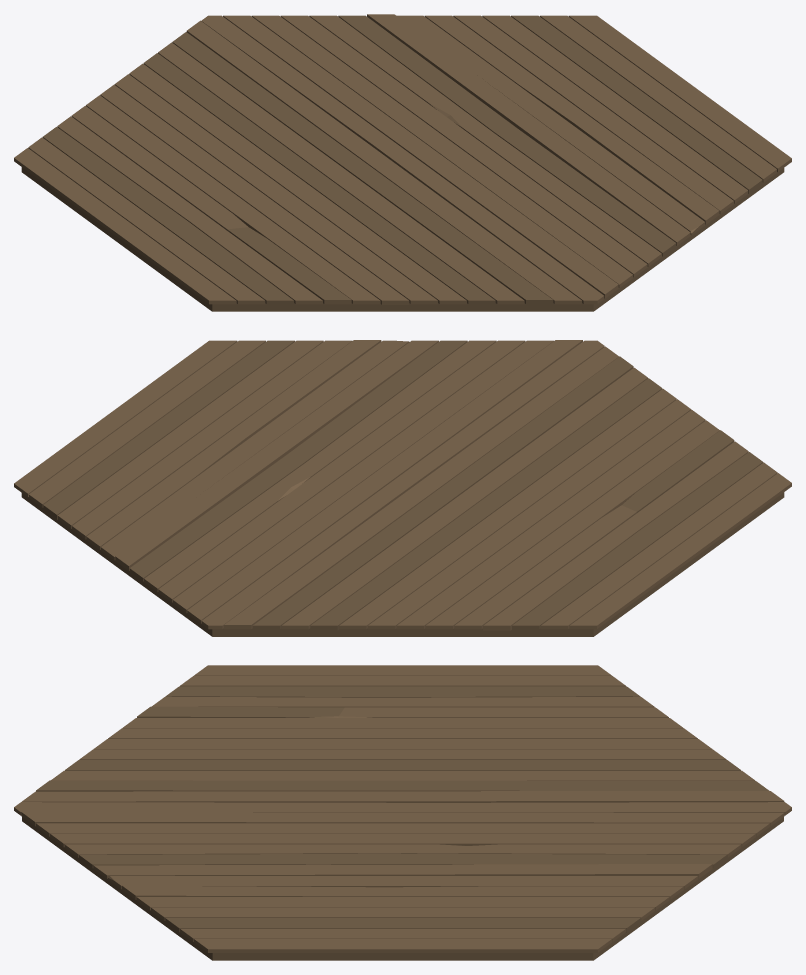
Rendered from SM_Props_City_Beach_Pier_Floor_04.fbx.
3 renders of one model, top to bottom at view 1: azimuth 30°, elevation 25°; view 2: azimuth 150°, elevation 25°; view 3: azimuth 270°, elevation 25°, orthographic.
Parts seen in each view (by area): view 1: SM_Props_City_Beach_Pier_Floor_04; view 2: SM_Props_City_Beach_Pier_Floor_04; view 3: SM_Props_City_Beach_Pier_Floor_04.
Part boxes in pixels (x1=…): SM_Props_City_Beach_Pier_Floor_04: x1=14, y1=14, x2=791, y2=311; SM_Props_City_Beach_Pier_Floor_04: x1=14, y1=340, x2=791, y2=636; SM_Props_City_Beach_Pier_Floor_04: x1=14, y1=665, x2=791, y2=960.
Bounding box in the file's own units: 864 × 22 × 1000.
